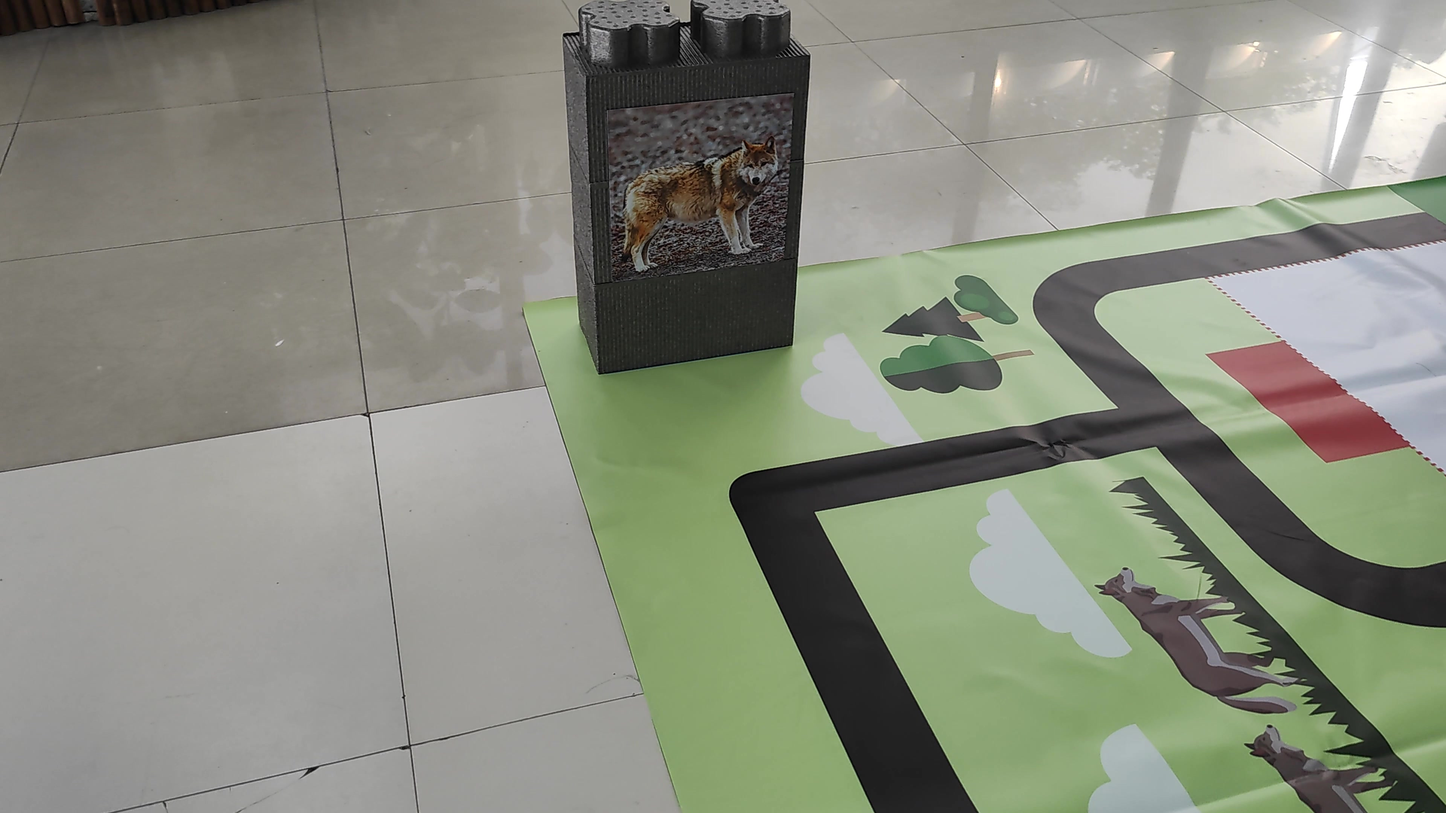wolf: (616, 129, 803, 283)
